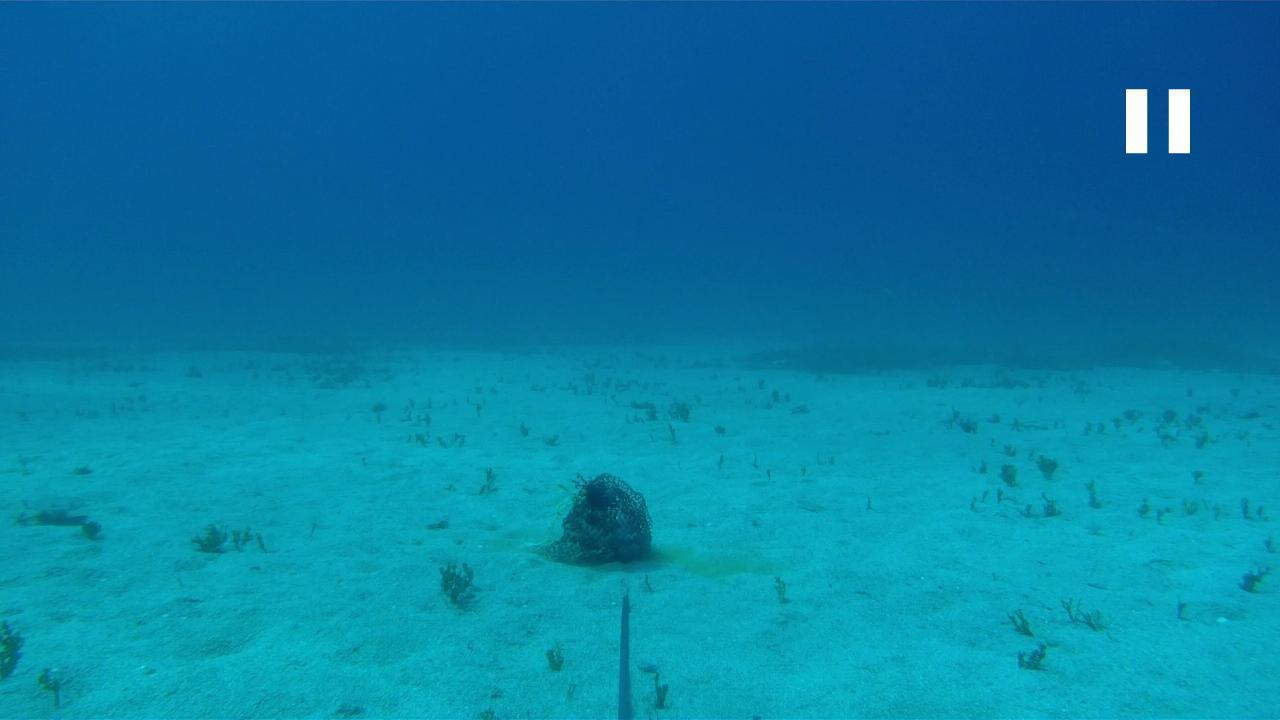bothus: (16, 494, 86, 524)
